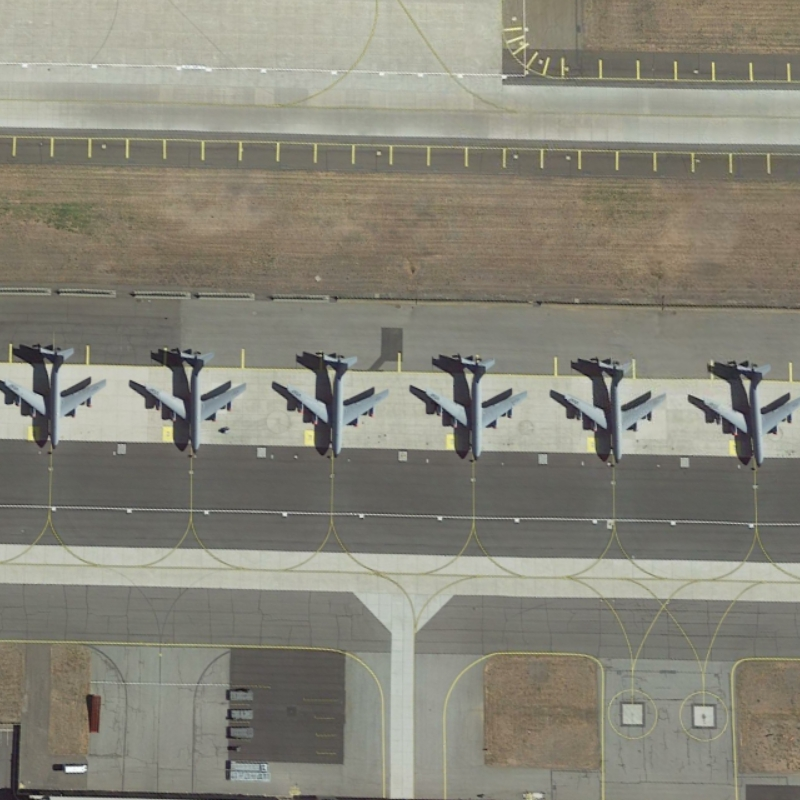A14: (266, 341, 399, 466), (408, 339, 536, 463), (129, 342, 255, 461), (689, 360, 800, 473), (554, 360, 670, 467), (4, 335, 110, 452)
